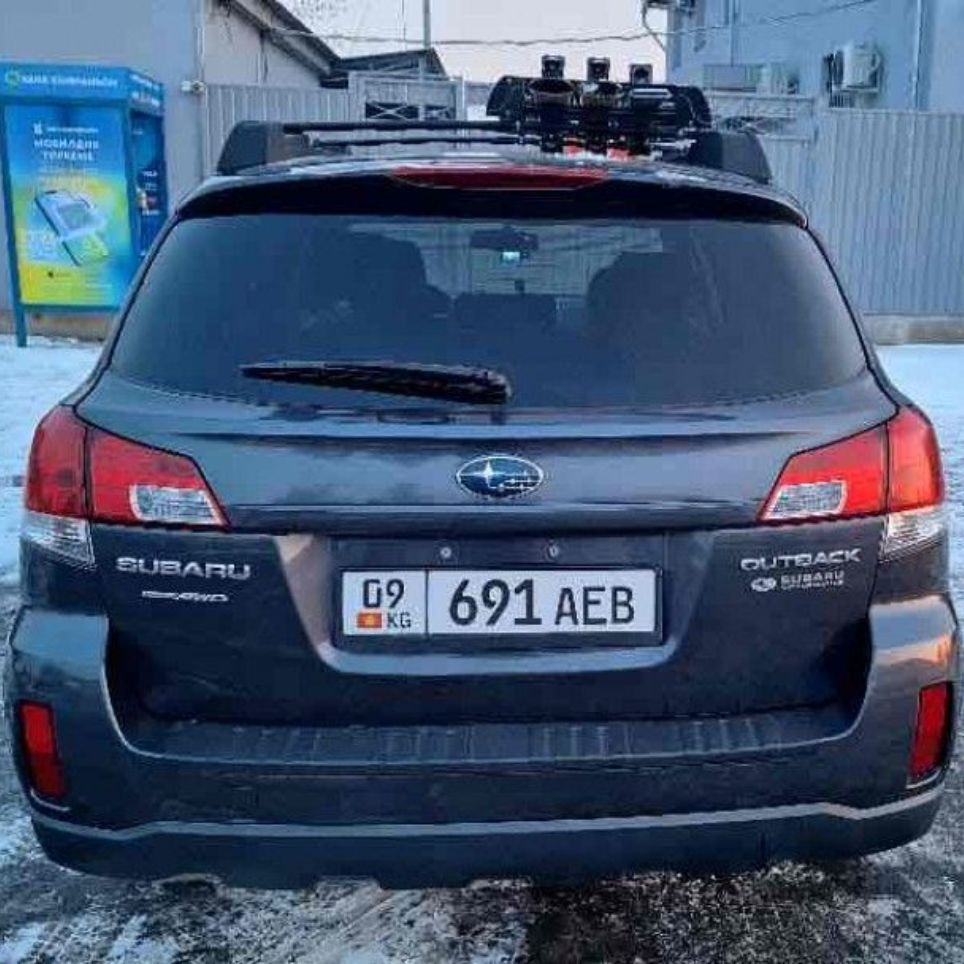license plate: (338, 566, 661, 636)
truck: (6, 107, 963, 874)
